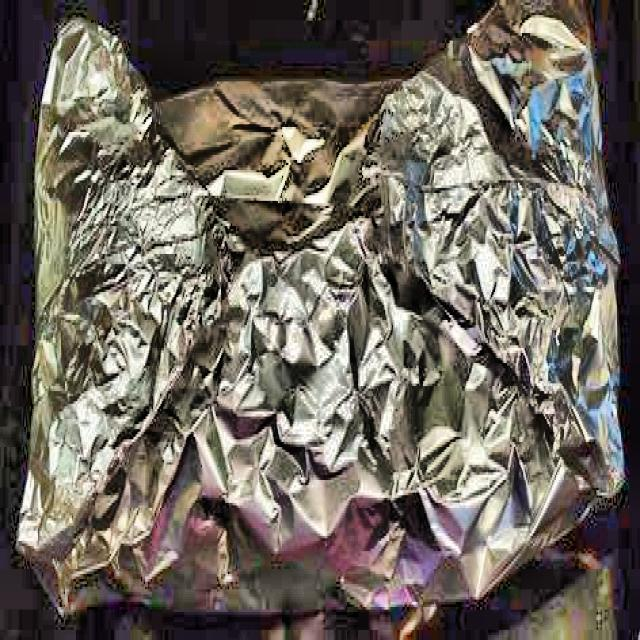Foil: (14, 0, 626, 622)
